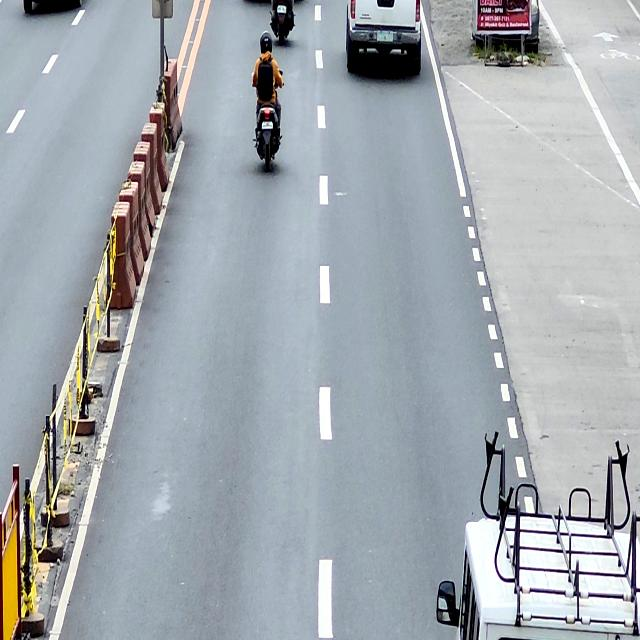Car: (436, 516, 640, 640), (345, 0, 422, 73)
License-Plate: (377, 31, 393, 42), (276, 5, 287, 14), (262, 121, 274, 129)
Motorcycle: (252, 69, 284, 173), (270, 0, 294, 44)
